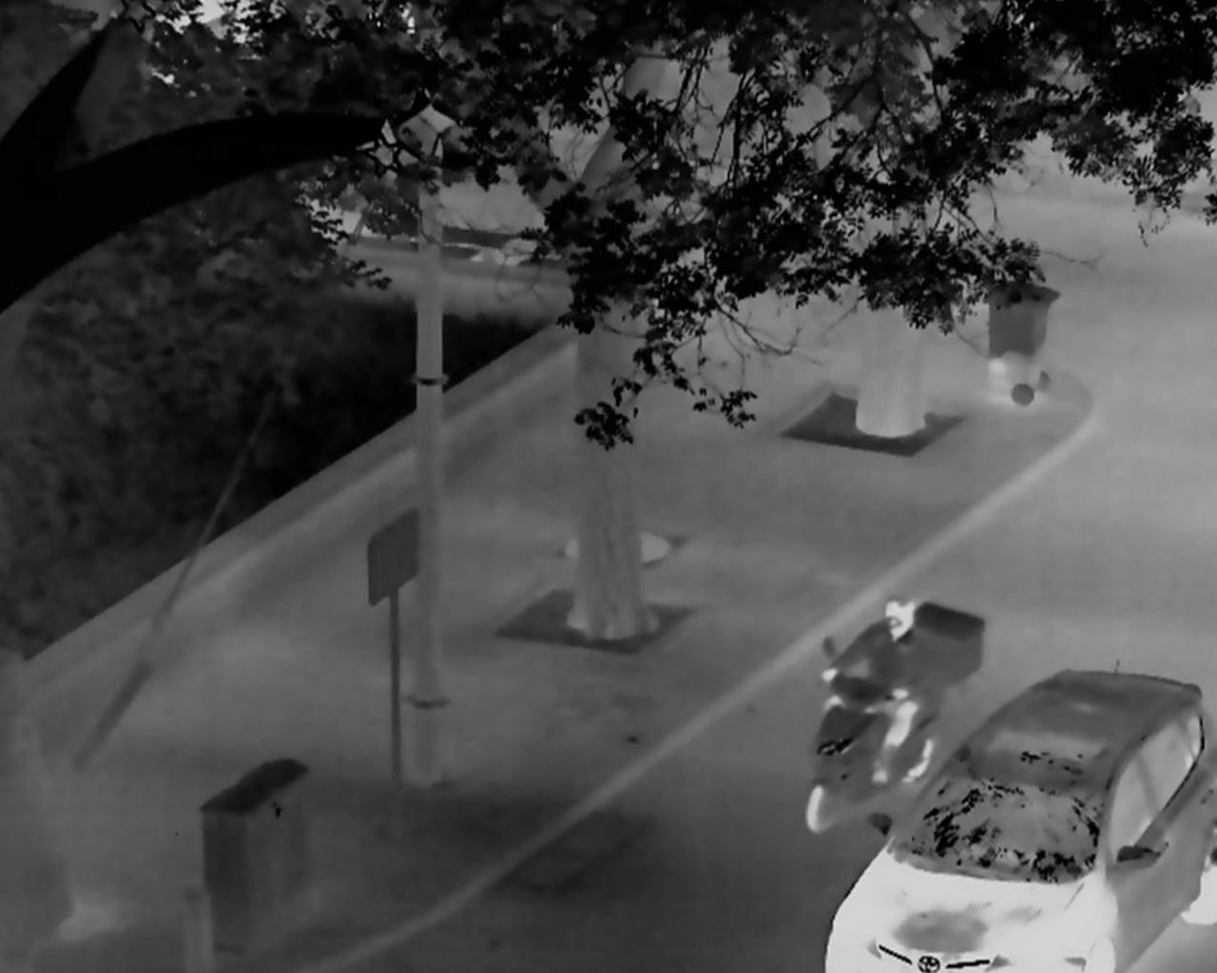person: (821, 593, 929, 787)
